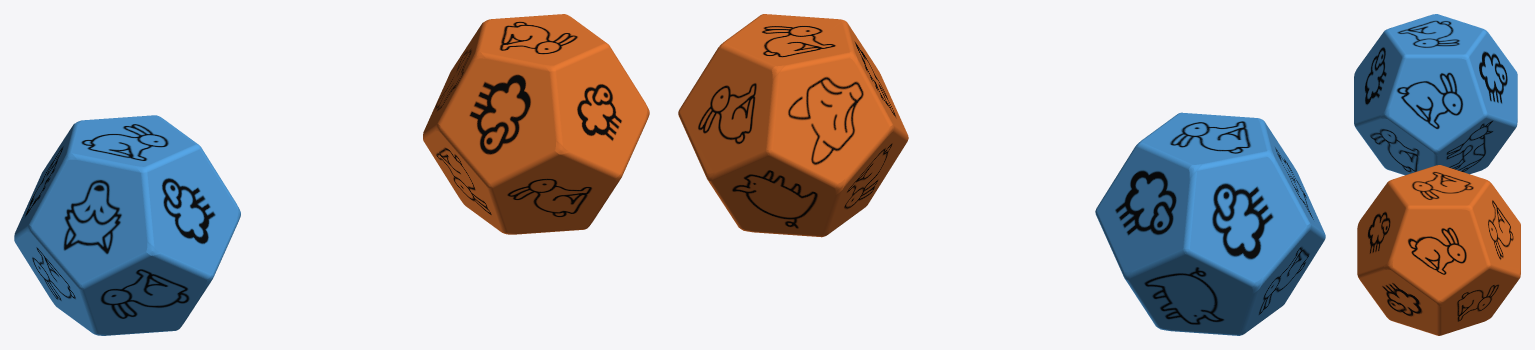
The model's file is dices.fbx.
3 renders of one model, left to right at view 1: azimuth 30°, elevation 25°; view 2: azimuth 150°, elevation 25°; view 3: azimuth 270°, elevation 25°, orthographic. The views are drawn at different scales.
Visible parts, largest first — view 1: DiceOrange, DiceBlue; view 2: DiceBlue, DiceOrange; view 3: DiceOrange, DiceBlue.
Part boxes in pixels (x1,y1,x2,y2): DiceOrange: [423, 14, 649, 234]; DiceBlue: [14, 115, 240, 335]; DiceBlue: [1095, 112, 1325, 335]; DiceOrange: [678, 14, 908, 237]; DiceOrange: [1357, 165, 1520, 335]; DiceBlue: [1354, 14, 1517, 175].
Size of the model in its own units: 594 by 162 by 189.
